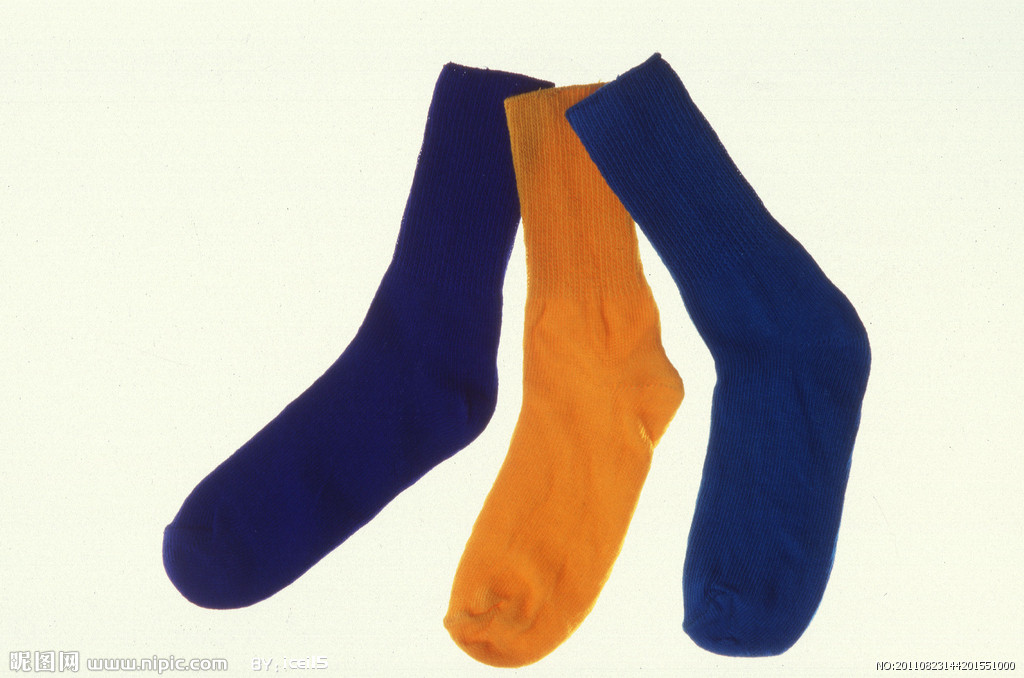flexible: (166, 54, 873, 661)
